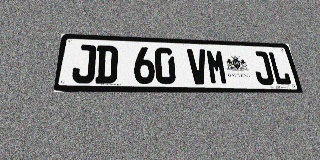0: (154, 47, 176, 84)
6: (134, 47, 155, 84)
D: (95, 45, 118, 84)
J: (71, 44, 96, 83), (250, 51, 275, 85)
L: (267, 52, 292, 85)
M: (205, 49, 229, 85)
V: (187, 49, 209, 84)
